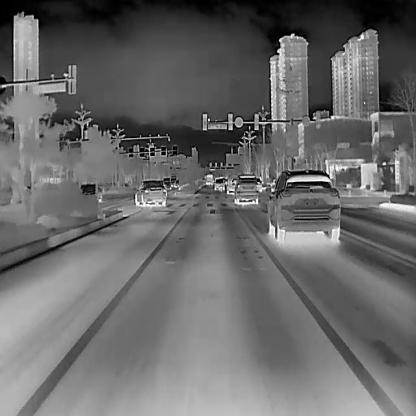bus: (204, 174, 212, 184)
car: (267, 168, 339, 239), (133, 180, 166, 204), (234, 174, 257, 201), (78, 182, 102, 201), (225, 173, 238, 194), (214, 177, 223, 190), (257, 174, 262, 192), (164, 180, 171, 190)
